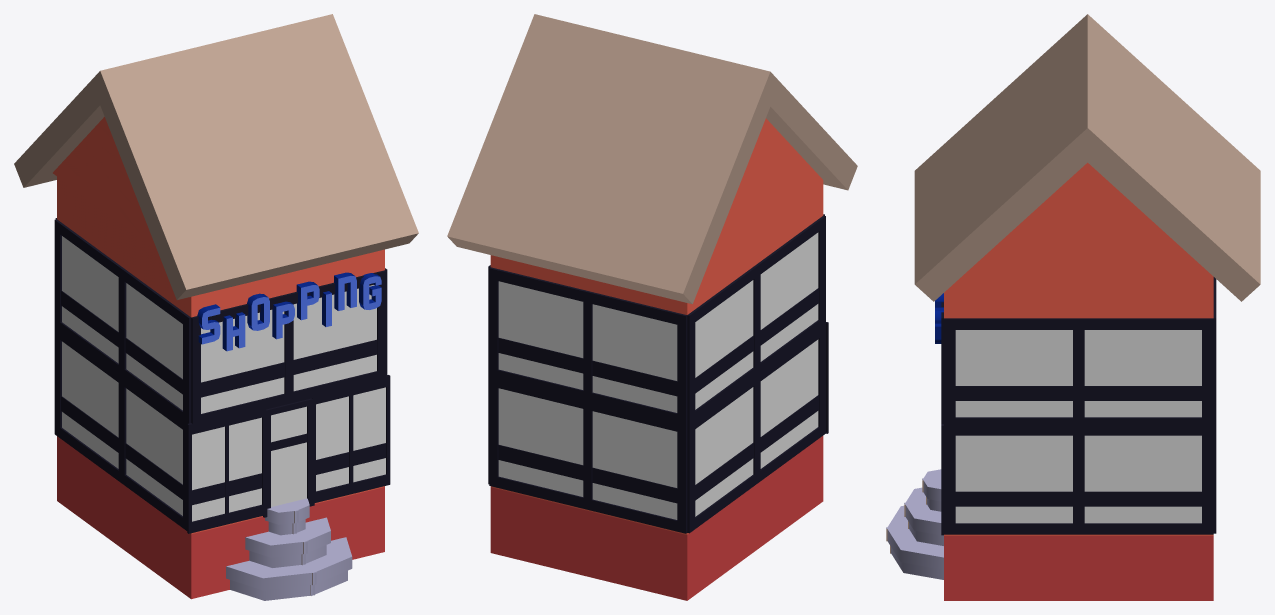
Rendered from radhus4.fbx.
The picture shows the model from 3 angles, left to right: view 1: azimuth 30°, elevation 25°; view 2: azimuth 150°, elevation 25°; view 3: azimuth 270°, elevation 25°; orthographic projection.
Visible parts, largest first — view 1: roof_half (×2), window_width (×5), block, stairs_cornerOuter (×2), door, P (×2), H, N, G, O, S; view 2: window_width (×4), roof_half (×2), block; view 3: roof_half (×2), window_width (×3), block, stairs_cornerOuter (×2).
Part boxes in pixels (x1=…): roof_half (×2): x1=14, y1=14, x2=418, y2=299; window_width (×5): x1=54, y1=219, x2=390, y2=533; block: x1=57, y1=176, x2=384, y2=599; stairs_cornerOuter (×2): x1=226, y1=498, x2=352, y2=600; door: x1=263, y1=398, x2=314, y2=517; P (×2): x1=272, y1=281, x2=319, y2=339; H: x1=222, y1=312, x2=245, y2=351; N: x1=334, y1=272, x2=356, y2=310; G: x1=359, y1=273, x2=381, y2=309; O: x1=247, y1=293, x2=269, y2=330; S: x1=197, y1=304, x2=220, y2=344; window_width (×4): x1=489, y1=215, x2=825, y2=533; roof_half (×2): x1=447, y1=14, x2=857, y2=304; block: x1=490, y1=175, x2=823, y2=600; roof_half (×2): x1=914, y1=14, x2=1260, y2=301; window_width (×3): x1=944, y1=277, x2=1216, y2=534; block: x1=944, y1=275, x2=1213, y2=600; stairs_cornerOuter (×2): x1=886, y1=469, x2=943, y2=579.
Size of the model in its own units: 30 by 59.24 by 41.64.
